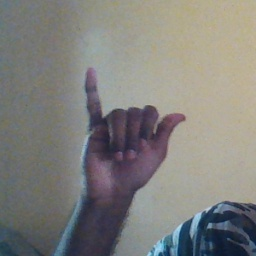J: (78, 67, 188, 191)
